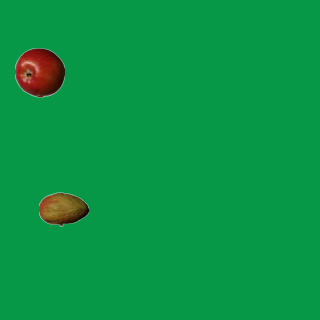Apple Braeburn: (14, 47, 64, 97)
Papaya: (38, 184, 88, 234)
